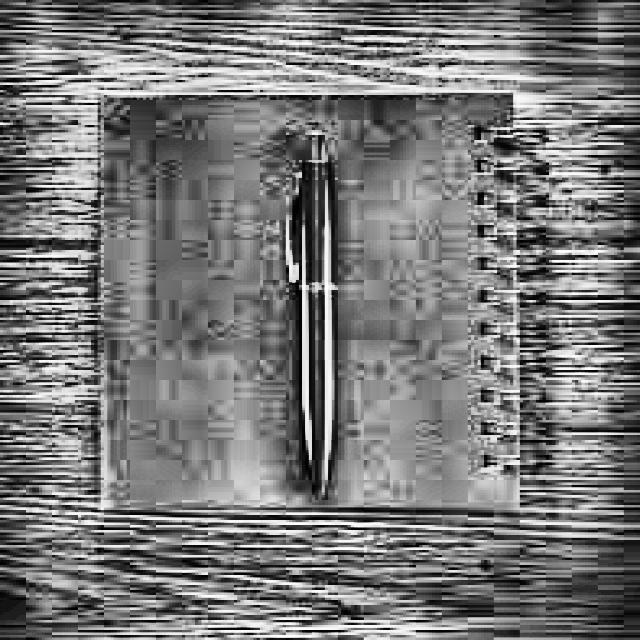Notebook: (75, 70, 536, 528)
Pen: (260, 120, 377, 500)
